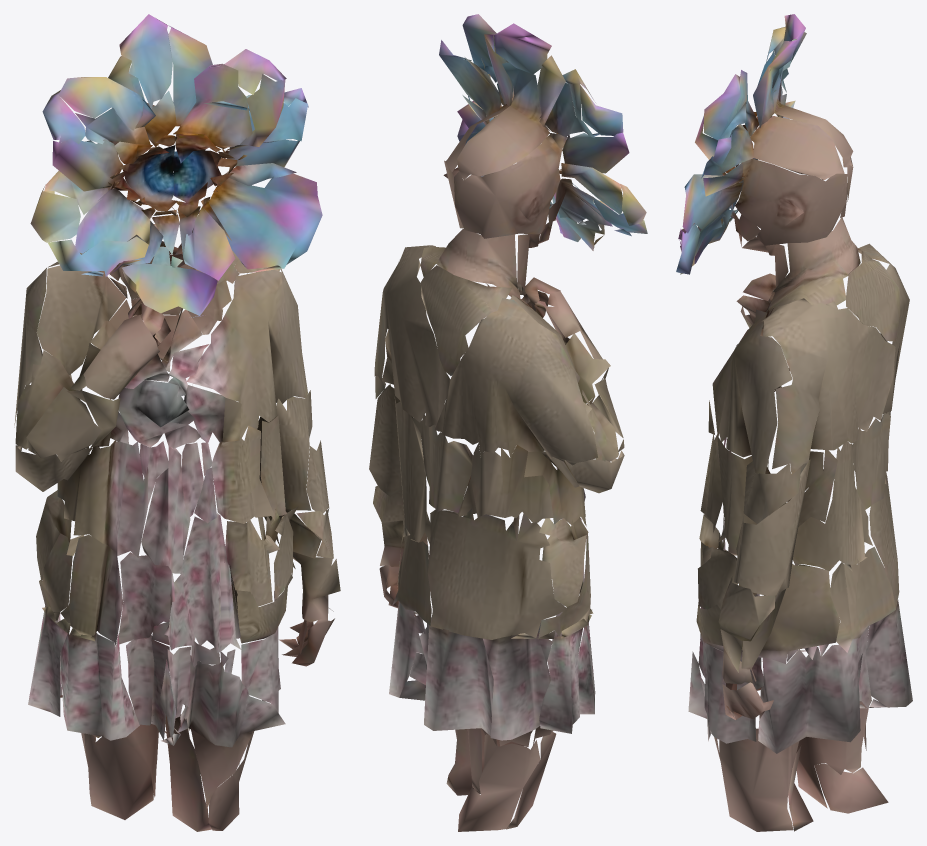
File: crowd_rosemary_full.glb
3 renders of one model, left to right at view 1: azimuth 30°, elevation 25°; view 2: azimuth 150°, elevation 25°; view 3: azimuth 270°, elevation 25°, orthographic. The views are drawn at different scales.
Parts seen in each view (by area): view 1: tripo_node_c2bd8c0d-a308-427d-9c4a-32c9a3a762b1; view 2: tripo_node_c2bd8c0d-a308-427d-9c4a-32c9a3a762b1; view 3: tripo_node_c2bd8c0d-a308-427d-9c4a-32c9a3a762b1.
Part boxes in pixels (bbox=[...]): tripo_node_c2bd8c0d-a308-427d-9c4a-32c9a3a762b1: bbox=[14, 14, 340, 831]; tripo_node_c2bd8c0d-a308-427d-9c4a-32c9a3a762b1: bbox=[369, 14, 647, 831]; tripo_node_c2bd8c0d-a308-427d-9c4a-32c9a3a762b1: bbox=[676, 14, 912, 831].
Bounding box in the file's own units: 0.3812 × 1 × 0.2739.
Materials: 1 (1 with a texture image).
